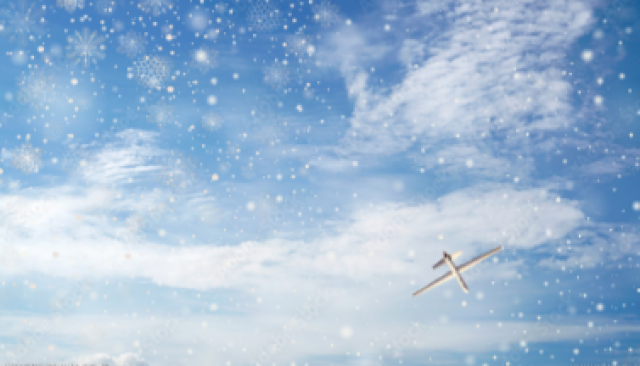military drone: (411, 243, 504, 298)
